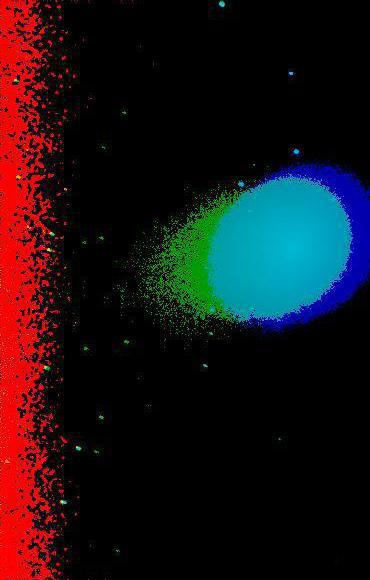star: (214, 192, 244, 222)
